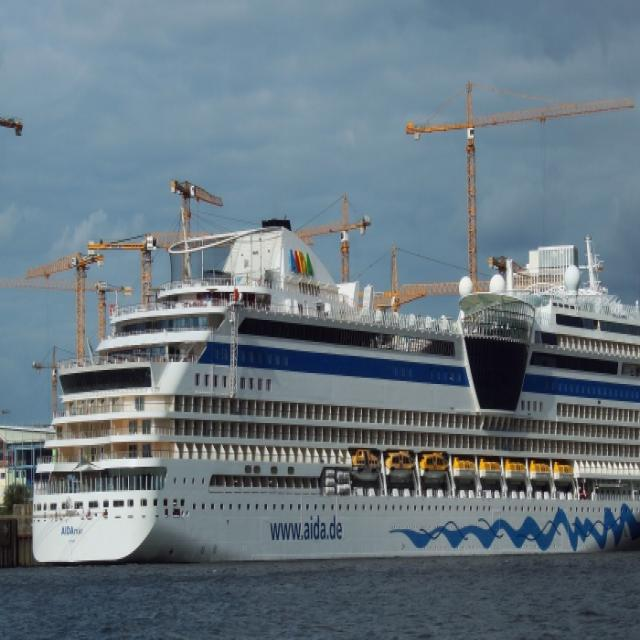cruises: (28, 218, 640, 572)
